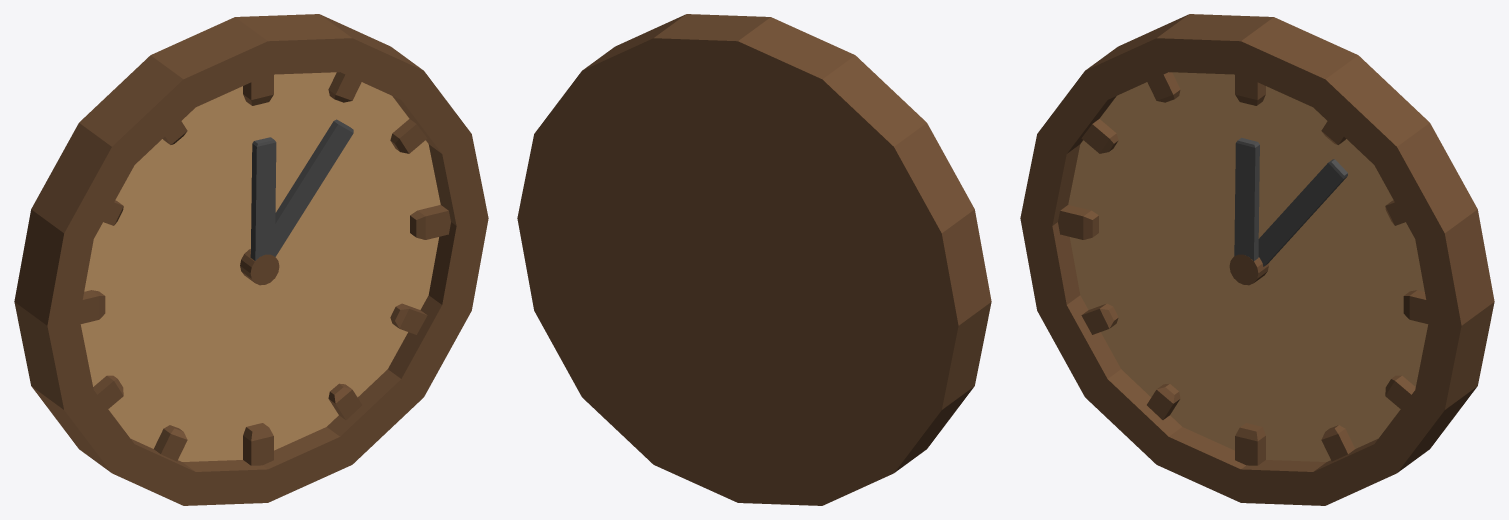
File: watch.fbx
The picture shows the model from 3 angles, left to right: view 1: azimuth 30°, elevation 25°; view 2: azimuth 150°, elevation 25°; view 3: azimuth 330°, elevation 25°; orthographic projection.
Visible parts, largest first — view 1: Watch, BigHand, SmallHand; view 2: Watch; view 3: Watch, SmallHand, BigHand.
Part boxes in pixels (<box>): Watch: <box>14,14,488,505</box>; BigHand: <box>275,119,353,256</box>; SmallHand: <box>250,137,276,260</box>; Watch: <box>517,14,991,505</box>; Watch: <box>1020,14,1494,505</box>; SmallHand: <box>1234,137,1259,260</box>; BigHand: <box>1258,159,1347,266</box>.
Bounding box in the file's own units: 846 × 846 × 110.
